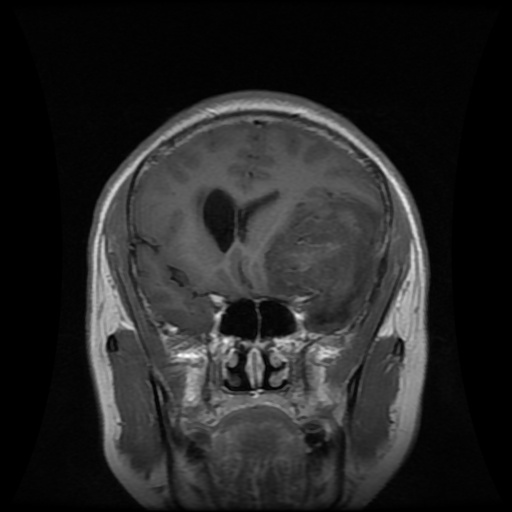glioma: (265, 188, 383, 332)
